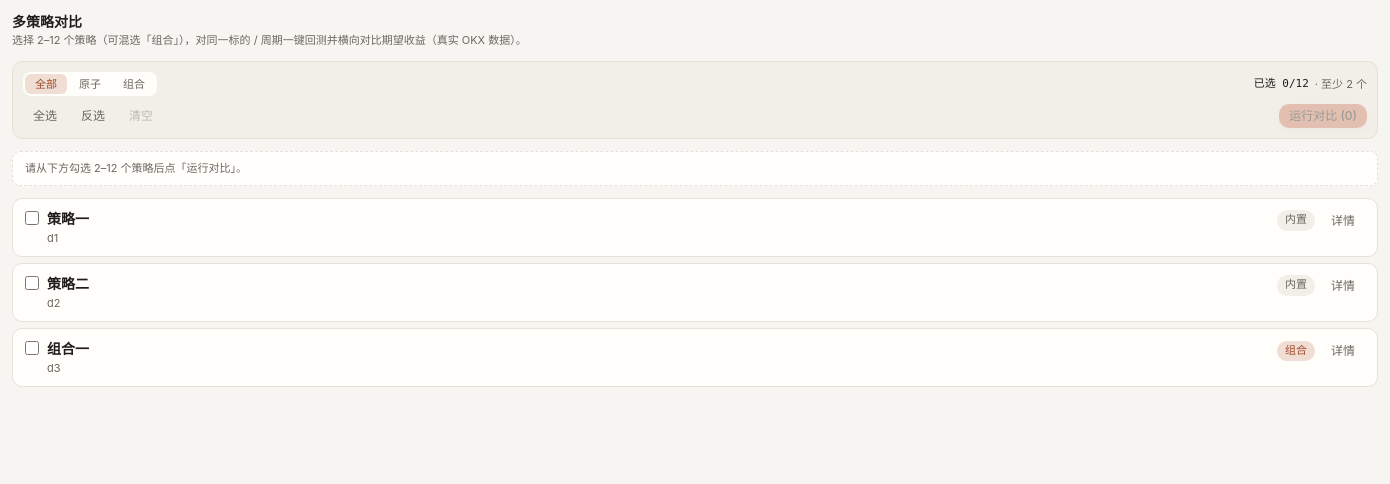
Scenario: CompareView › writes the shared compare cache key after running with >= 2 selections
The width and height of the screenshot is (1390, 484).
Expected: the text "策略一" is shown, 47,208 -> 89,228
Click the checkbox named "选择 策略一". click: (32, 218)
box: 25,210 -> 39,224
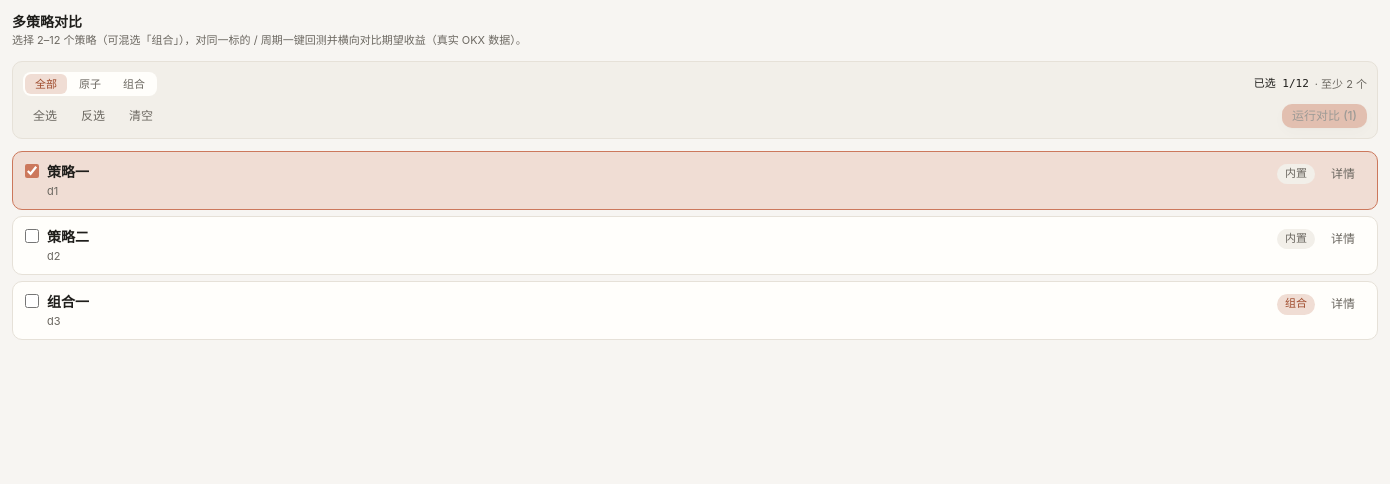
Click the checkbox named "选择 策略二". click: (32, 236)
box: 25,229 -> 39,243
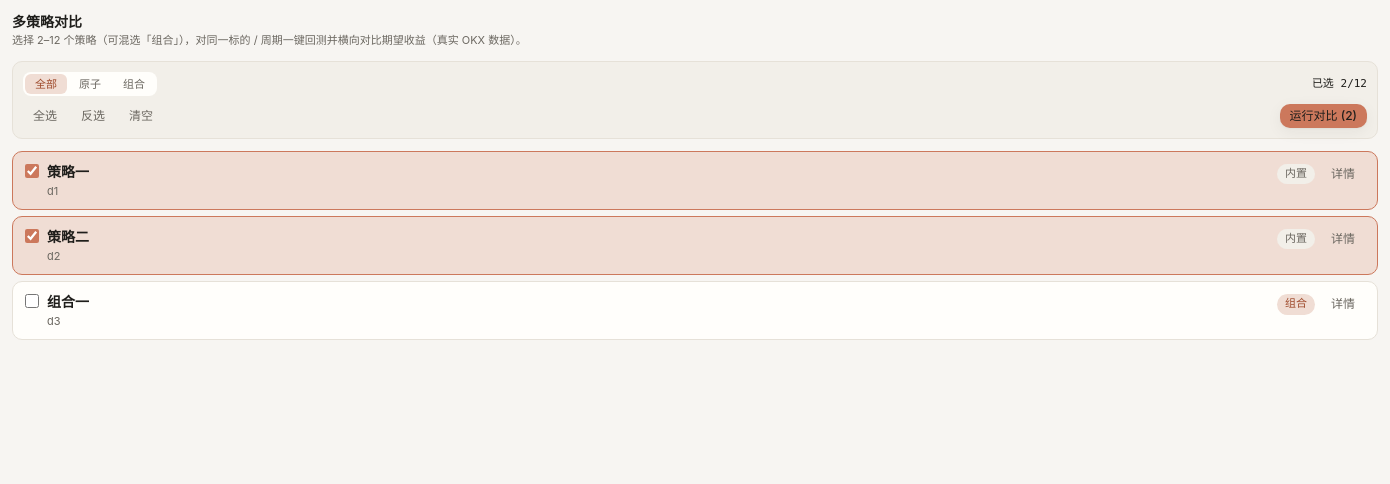
Expected: the text "已选 2/12" is shown, 1312,76 -> 1367,92
Click the button "运行对比 (2)". click: (1323, 116)
box: 1280,104 -> 1367,128
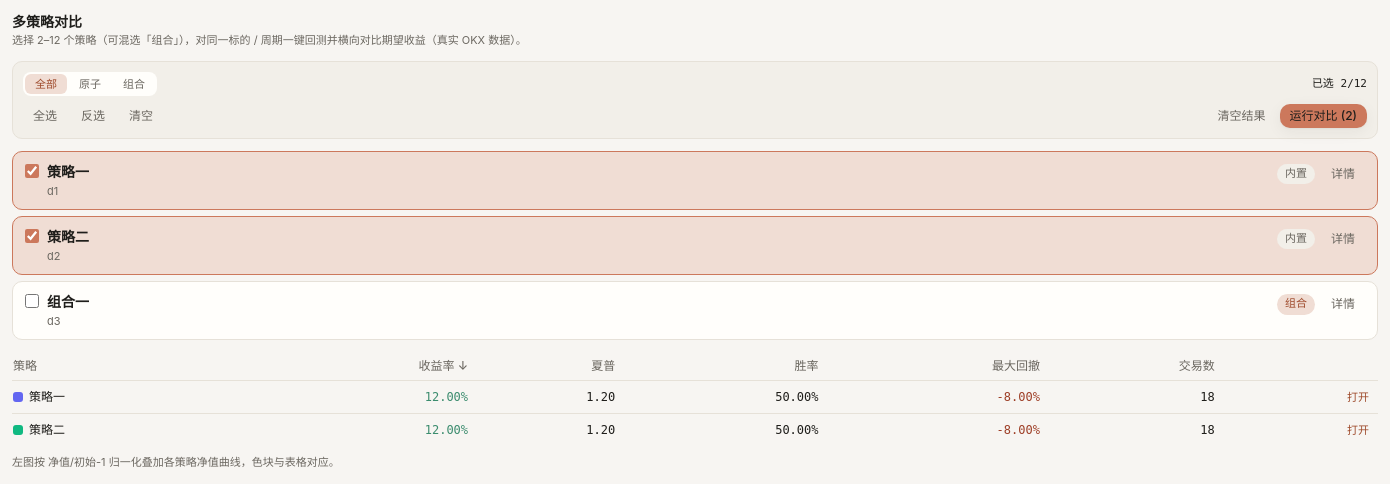
Expected: the column heading "收益率 ↓" is shown, 249,352 -> 476,381
